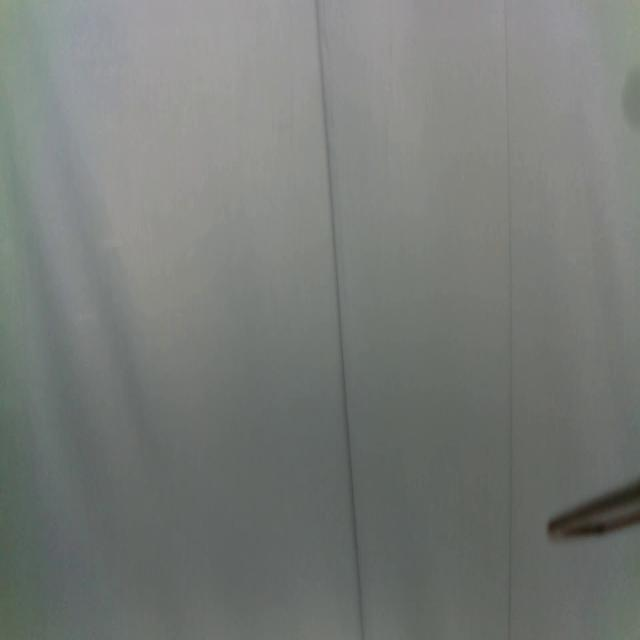crease: (315, 0, 366, 640), (502, 0, 516, 640)
